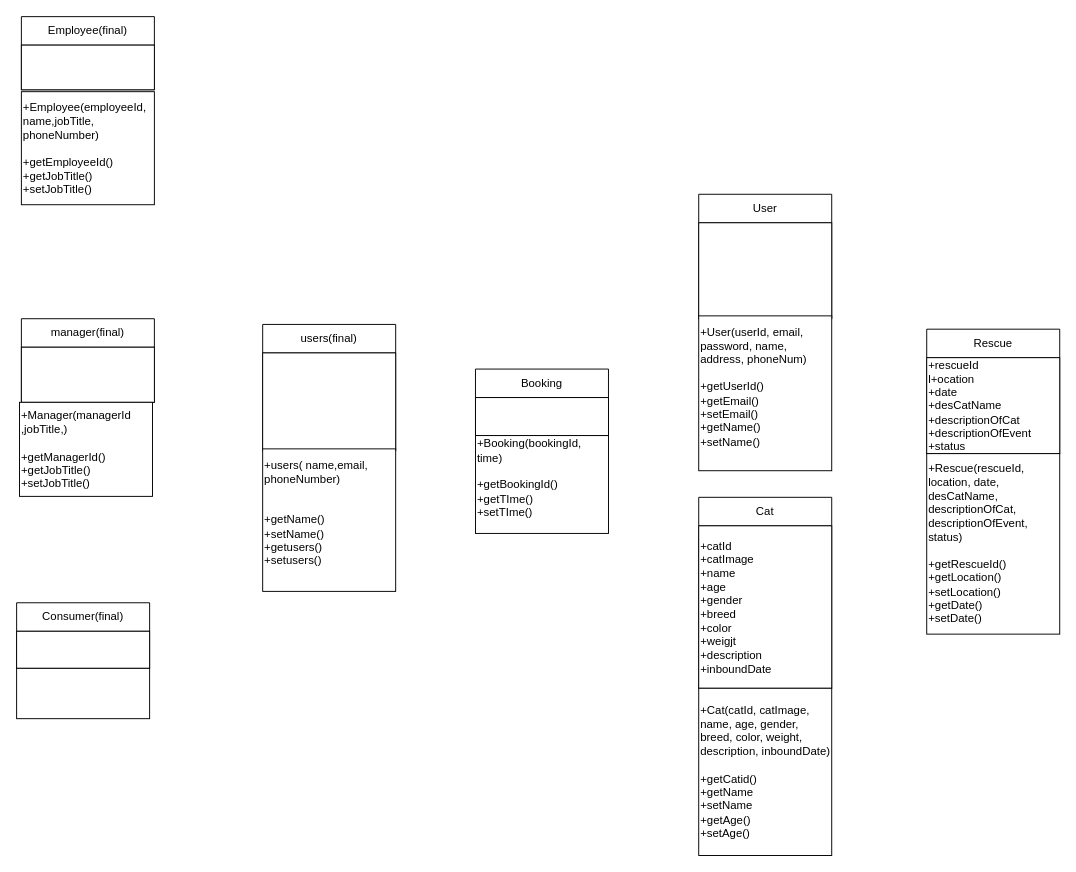
Some shapes in this 1076 by 872 pixel diagram are drawn without their labels. The shapes that lost their labels are listed below. From the top down, each one's centre as x and y in pixels, then its label:
At point 87,67: "+employeeId +j obTitle".
At point 765,270: "+userID +email +password +name +address +phoneNum".
At point 87,374: "+managerid +j obTitle".
At point 329,401: "+name +email +phoneNumber".
At point 541,416: "+bookingID +time".
At point 83,649: "+consumerId".
At point 83,693: "+consumer(consumerId, ) +getconsumerid()".
